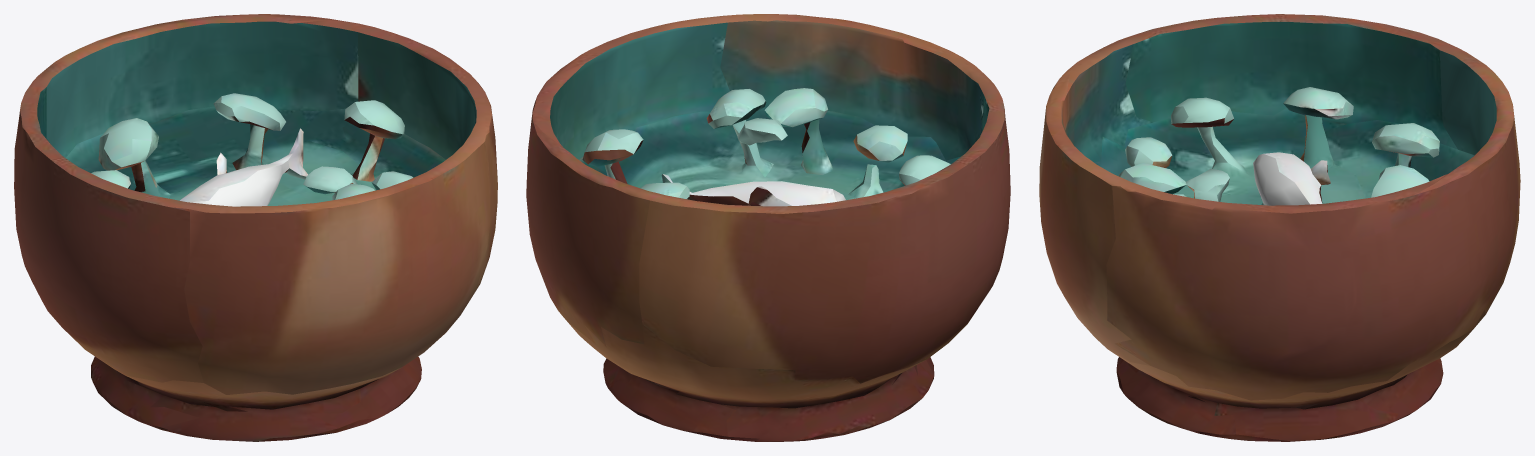
Rendered from glowcap_broth.glb.
3 views of the same model, side by side, from view 1: azimuth 30°, elevation 25°; view 2: azimuth 150°, elevation 25°; view 3: azimuth 270°, elevation 25° (orthographic).
Visible parts, largest first — view 1: glowcap_broth; view 2: glowcap_broth; view 3: glowcap_broth.
Boxes of the visible parts, box(x1,y1,x2,y2) form: glowcap_broth: box(14, 14, 497, 441); glowcap_broth: box(526, 14, 1010, 441); glowcap_broth: box(1039, 14, 1520, 441).
Size of the model in its own units: 1 by 0.5991 by 0.999.
Materials: 1 (1 with a texture image).
